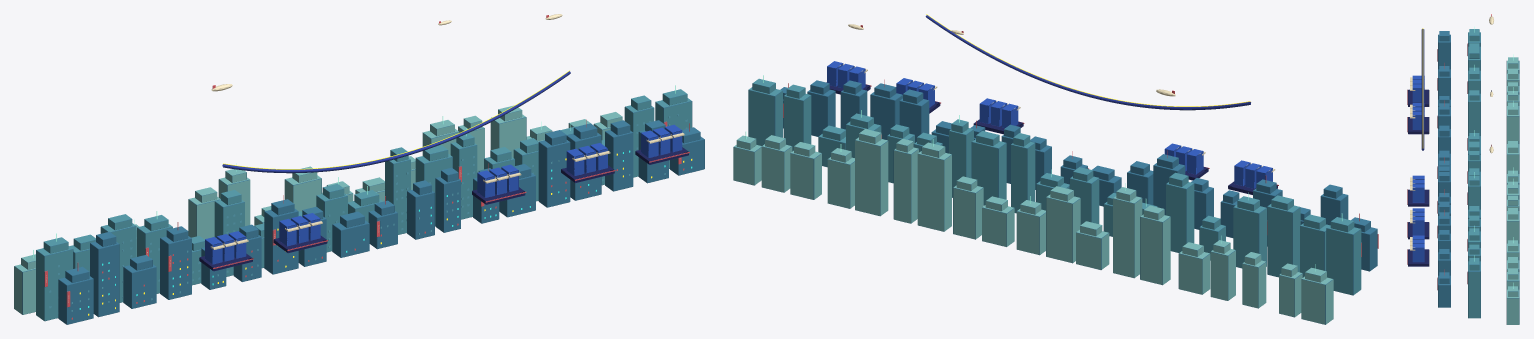
The model's file is flight_city.glb.
3 renders of one model, left to right at view 1: azimuth 30°, elevation 25°; view 2: azimuth 150°, elevation 25°; view 3: azimuth 270°, elevation 25°, orthographic. The views are drawn at different scales.
Parts seen in each view (by area): view 1: Flight_City_Quiet_Skyline; view 2: Flight_City_Quiet_Skyline; view 3: Flight_City_Quiet_Skyline.
Part boxes in pixels (x1,y1,x2,y2): Flight_City_Quiet_Skyline: (14, 14, 704, 324); Flight_City_Quiet_Skyline: (733, 14, 1378, 324); Flight_City_Quiet_Skyline: (1407, 14, 1519, 324).
Bounding box in the file's own units: 131 × 38.93 × 26.11.
